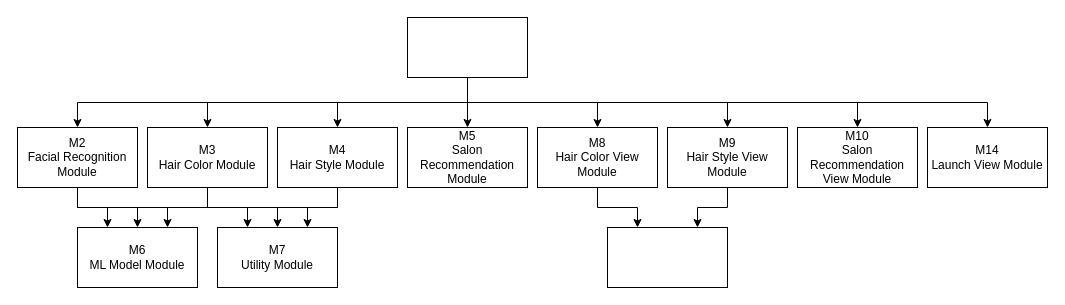
The diagram is 1065 pixels wide and 305 high, and some of its shapes have lost their labels. The shapes that lost their labels are listed below. From the top down, each one's centre as x and y in pixels, then its label:
At point (467, 47): "M1 Controller Module".
At point (667, 257): "M13 Camera Module".
